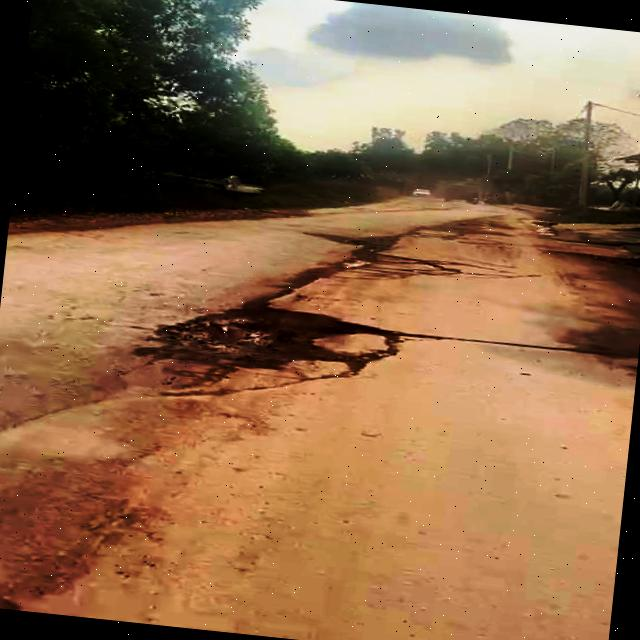pothole: (130, 288, 411, 391)
